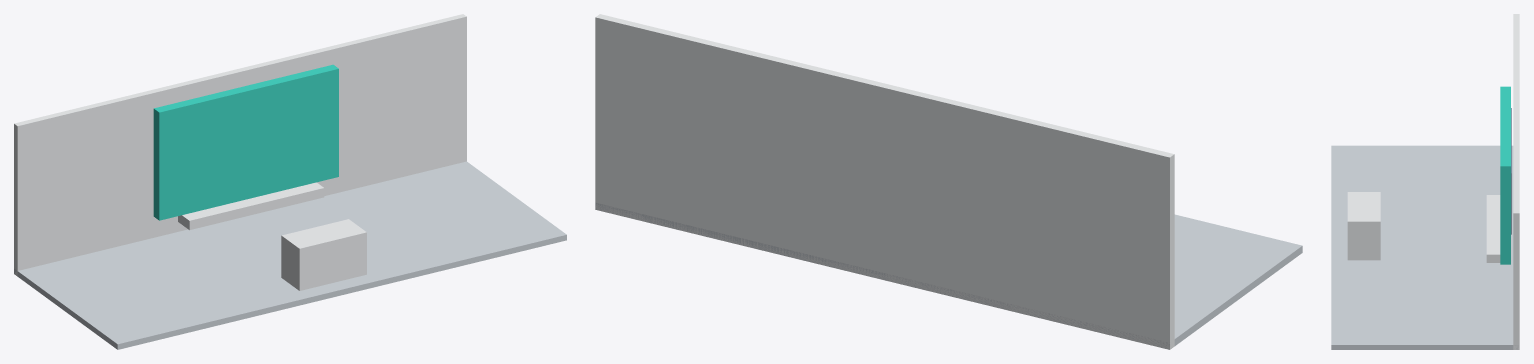
The picture shows the model from 3 angles, left to right: view 1: azimuth 30°, elevation 25°; view 2: azimuth 150°, elevation 25°; view 3: azimuth 270°, elevation 25°; orthographic projection. The views are drawn at different scales.
Visible parts, largest first — view 1: Exhibition Booth Concept; view 2: Exhibition Booth Concept; view 3: Exhibition Booth Concept.
Boxes of the visible parts, x1,y1,x2,y2 form: Exhibition Booth Concept: (14, 14, 566, 349); Exhibition Booth Concept: (595, 14, 1302, 349); Exhibition Booth Concept: (1331, 14, 1519, 349).
Size of the model in its own units: 10 by 3.2 by 4.
